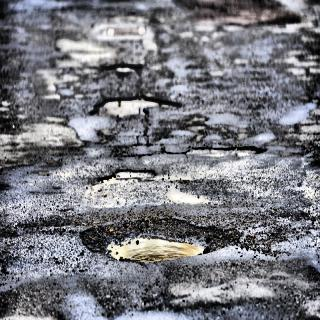pothole: (77, 210, 220, 276), (91, 94, 182, 124), (181, 140, 268, 162), (96, 168, 159, 186), (108, 59, 155, 76)
